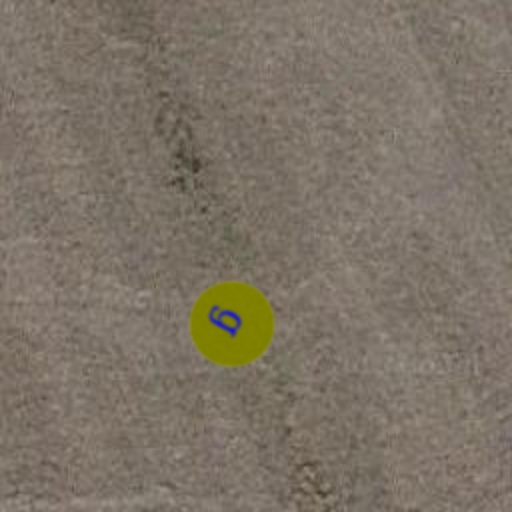circle: (174, 266, 290, 382)
